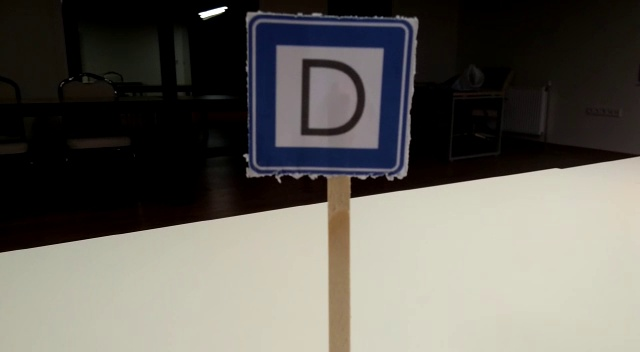durak: (247, 18, 414, 175)
